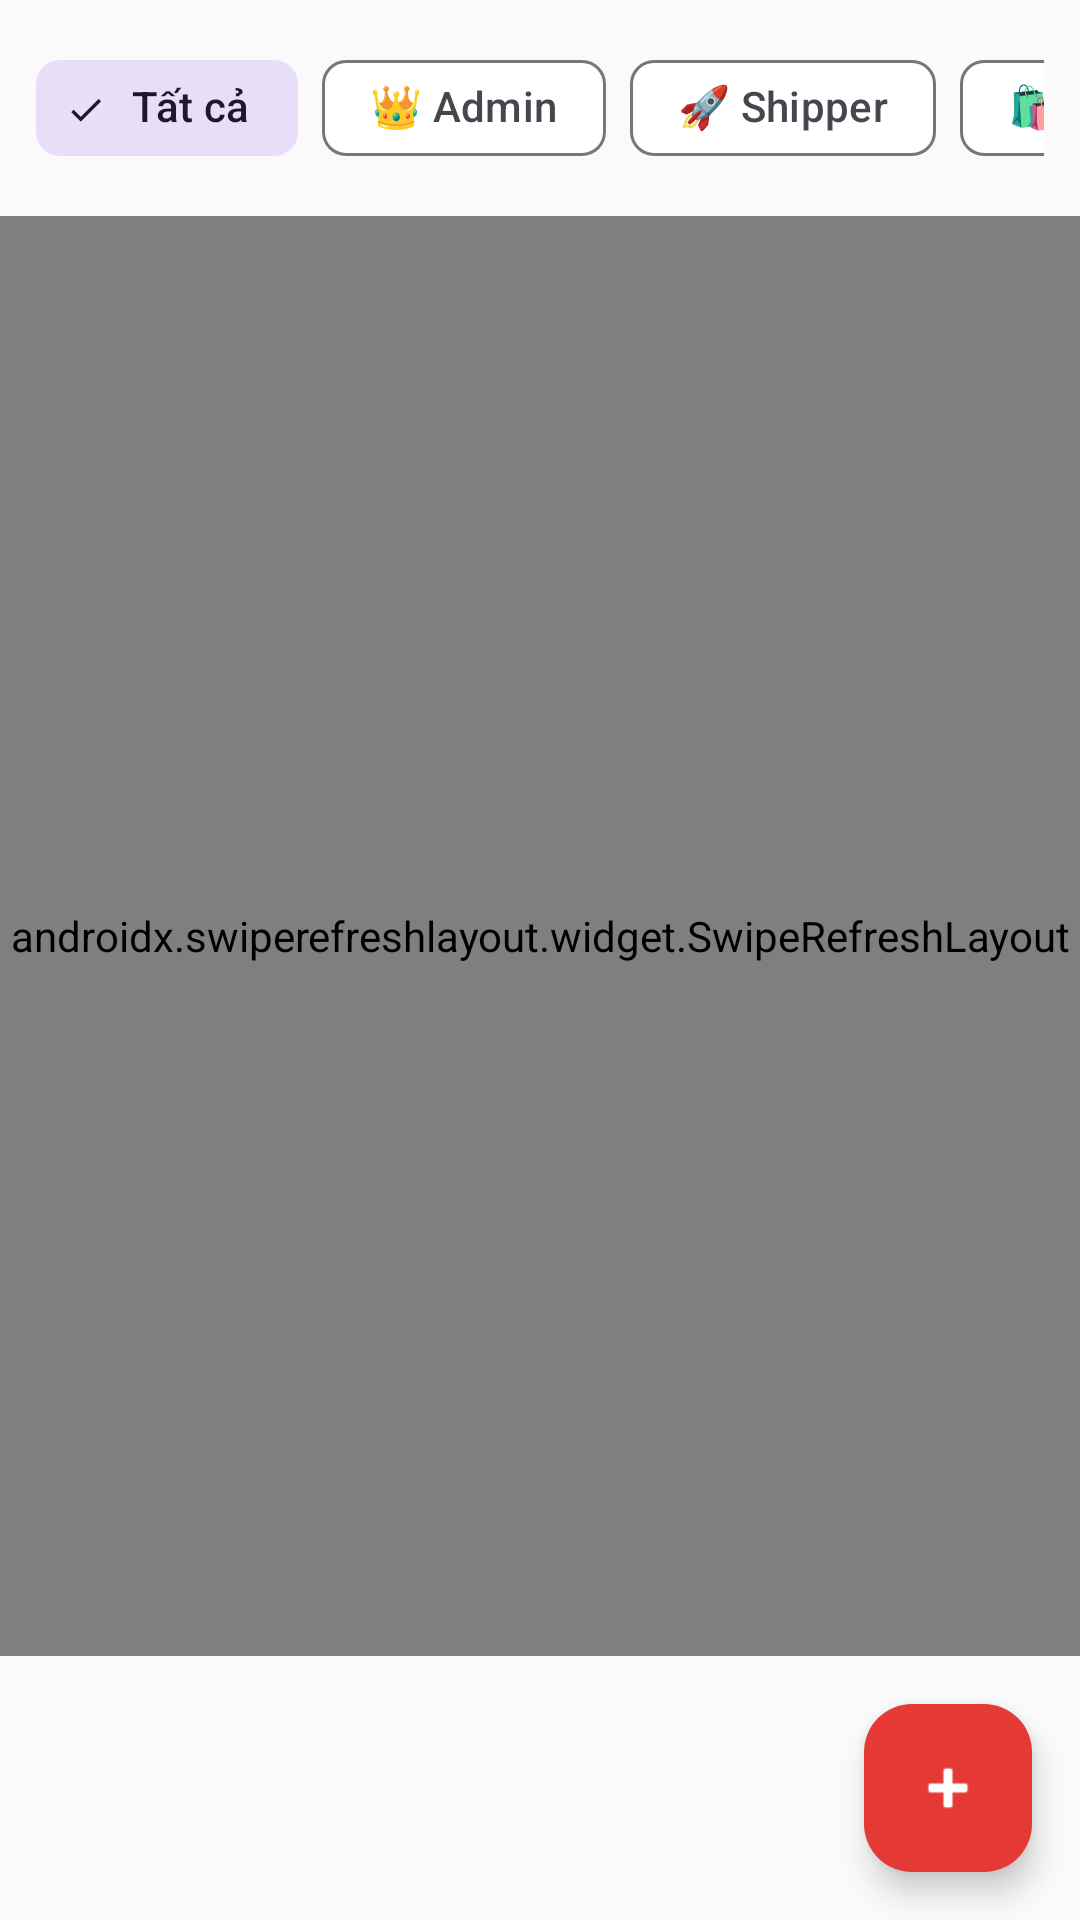

Icon click points for this 1080px×1920px phone screenshot, format (x=x, y=y):
Thêm user: (x=948, y=1788)
